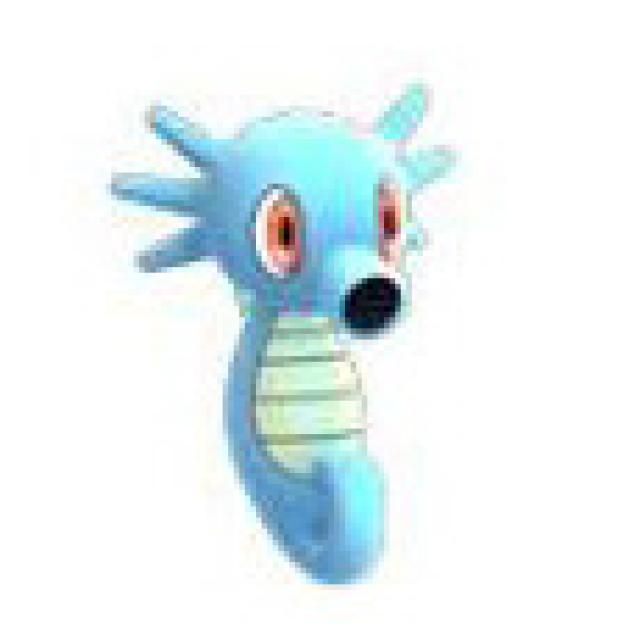Horsea: (120, 75, 468, 594)
